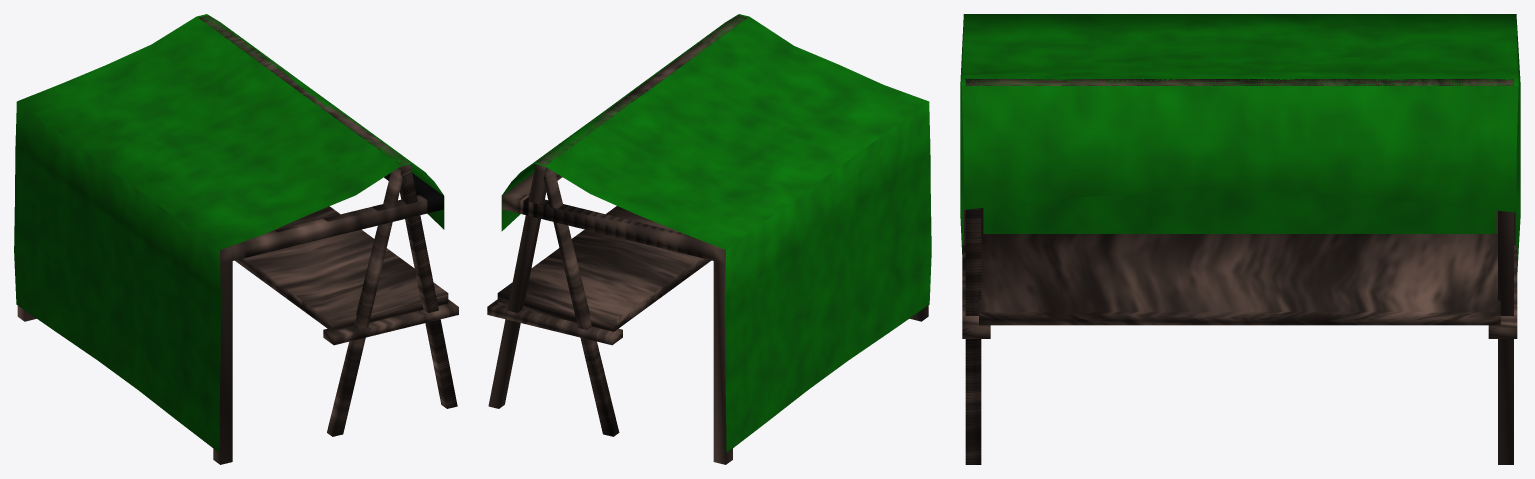
Rendered from StandGreen.glb.
3 renders of one model, left to right at view 1: azimuth 30°, elevation 25°; view 2: azimuth 150°, elevation 25°; view 3: azimuth 270°, elevation 25°, orthographic. The views are drawn at different scales.
Parts seen in each view (by area): view 1: Cube; view 2: Cube; view 3: Cube.
Part boxes in pixels (x1,y1,x2,y2): Cube: [14, 14, 458, 464]; Cube: [487, 14, 931, 464]; Cube: [960, 14, 1520, 464].
Bounding box in the file's own units: 7.43 × 7.54 × 11.01.
2 materials, 2 textured.
